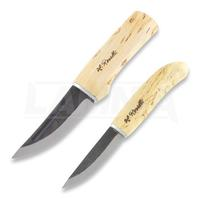knife: (8, 9, 154, 166), (58, 50, 183, 195)
